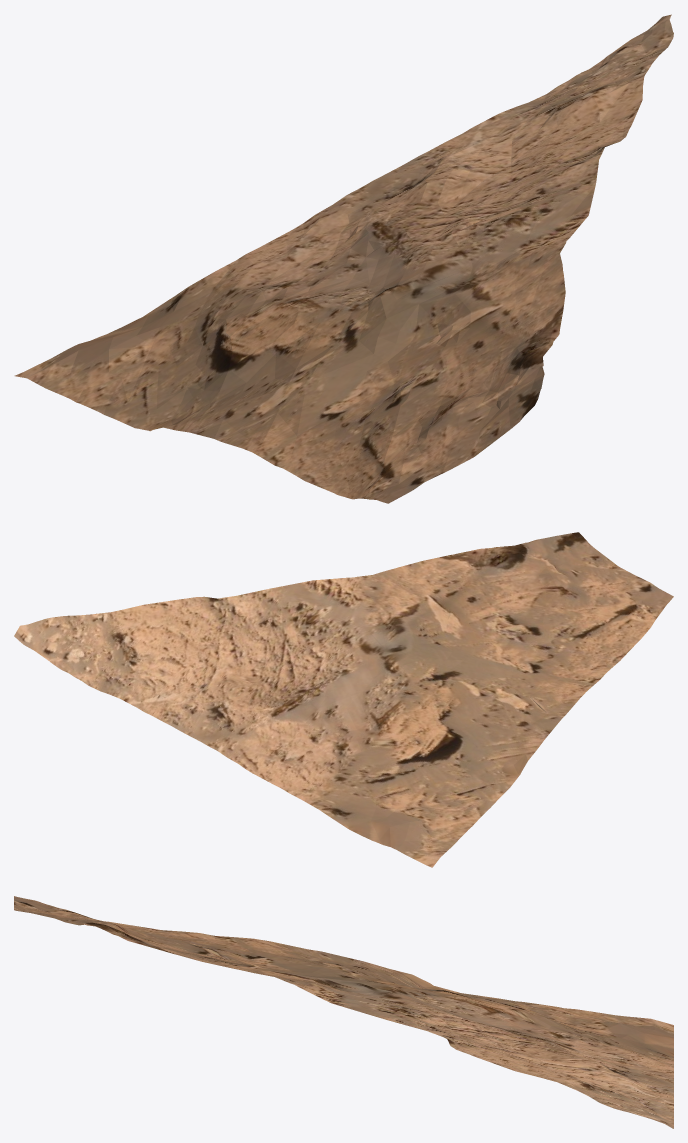
3 views of the same model, one above another, from view 1: azimuth 30°, elevation 25°; view 2: azimuth 150°, elevation 25°; view 3: azimuth 270°, elevation 25° (orthographic). The views are drawn at different scales.
Bounding box in the file's own units: 2.09 × 0.6471 × 2.09.
Materials: 2 (2 with a texture image).
